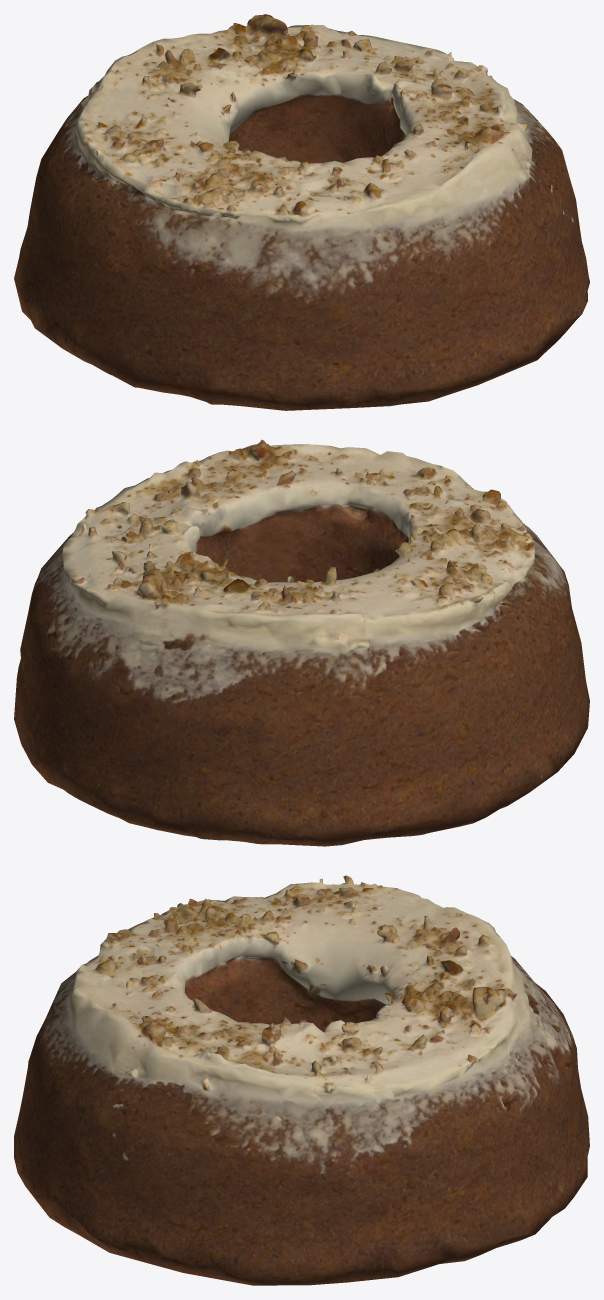
Rendered from carrot_cake.glb.
3 renders of one model, top to bottom at view 1: azimuth 30°, elevation 25°; view 2: azimuth 150°, elevation 25°; view 3: azimuth 270°, elevation 25°, orthographic. The views are drawn at different scales.
Parts seen in each view (by area): view 1: carrot_cake; view 2: carrot_cake; view 3: carrot_cake.
Part boxes in pixels (bbox=[...]): carrot_cake: bbox=[14, 14, 589, 410]; carrot_cake: bbox=[14, 439, 589, 846]; carrot_cake: bbox=[14, 875, 589, 1285].
Bounding box in the file's own units: 0.2254 × 0.0976 × 0.2254.
1 material, 1 textured.
